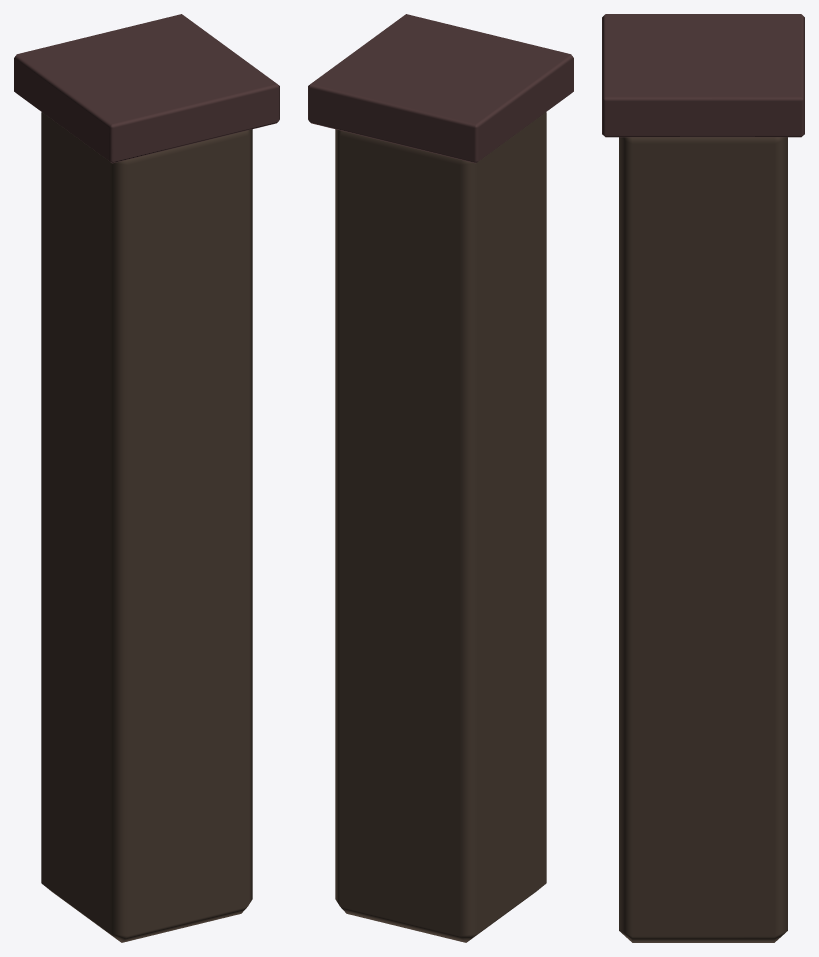
Rendered from ghost-town-roof-chimney.4309cd66.glb.
The picture shows the model from 3 angles, left to right: view 1: azimuth 30°, elevation 25°; view 2: azimuth 150°, elevation 25°; view 3: azimuth 270°, elevation 25°; orthographic projection. The views are drawn at different scales.
Visible parts, largest first — view 1: body; view 2: body; view 3: body.
Part boxes in pixels (left/top/right/bottom): body: left=14, top=14, right=279, bottom=942; body: left=308, top=14, right=573, bottom=942; body: left=602, top=14, right=804, bottom=942.
Bounding box in the file's own units: 0.36 × 1.68 × 0.36.
